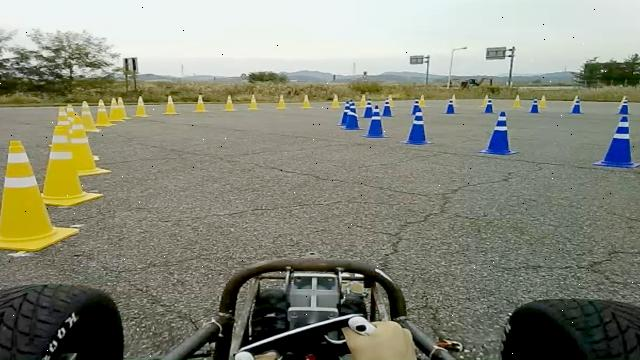blue cone: (593, 115, 640, 168), (478, 111, 520, 155), (400, 105, 440, 145), (361, 104, 388, 138), (341, 100, 361, 130), (334, 102, 352, 129)
yellow cone: (0, 140, 80, 251), (38, 124, 85, 212), (62, 113, 97, 181), (80, 100, 100, 132), (96, 99, 113, 126), (109, 97, 125, 121), (162, 95, 180, 114), (134, 96, 149, 117), (116, 96, 129, 118)
